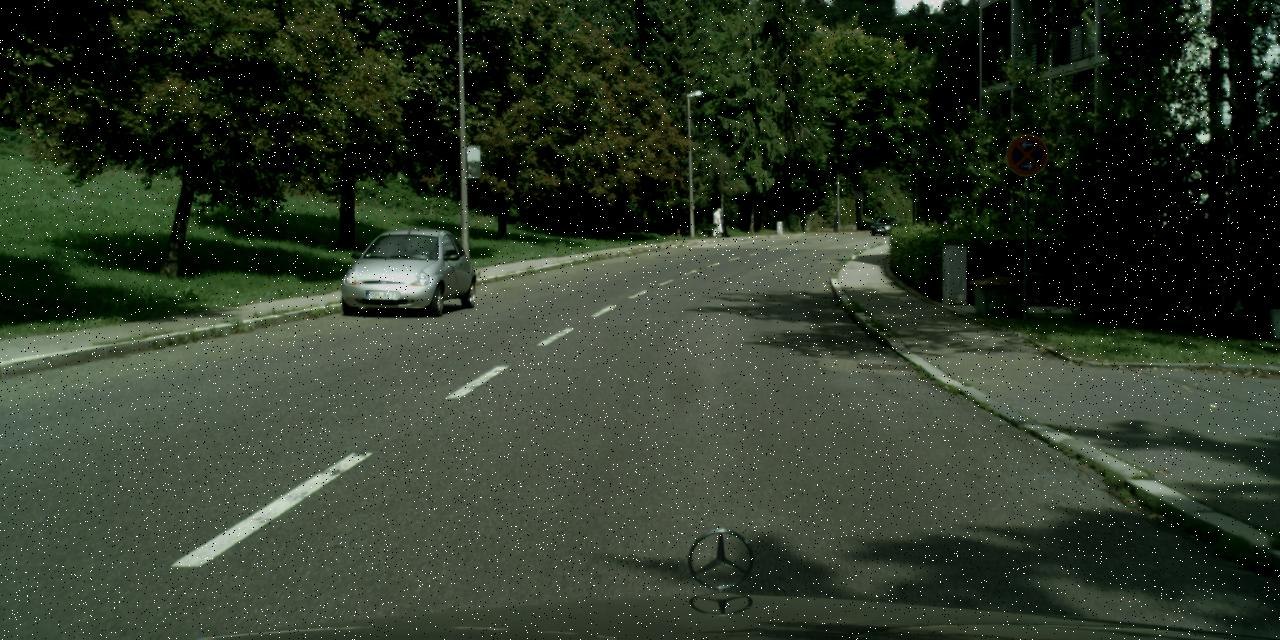ped: (711, 207, 723, 236)
